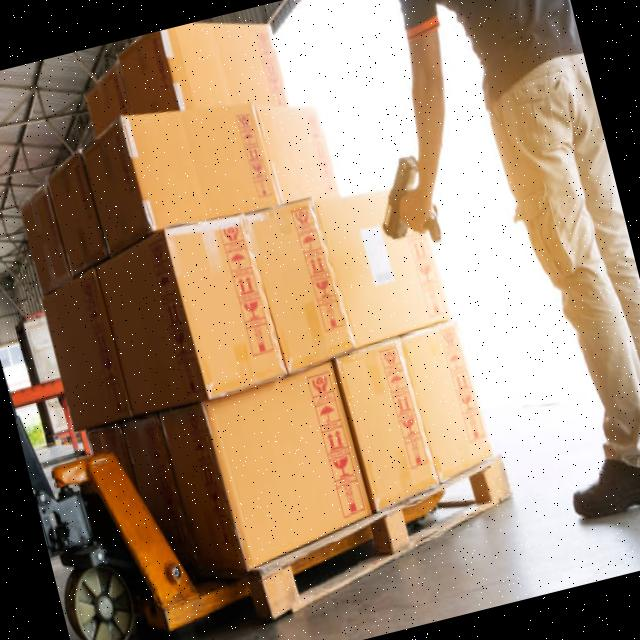Wooden-Pallets: (252, 449, 519, 635)
